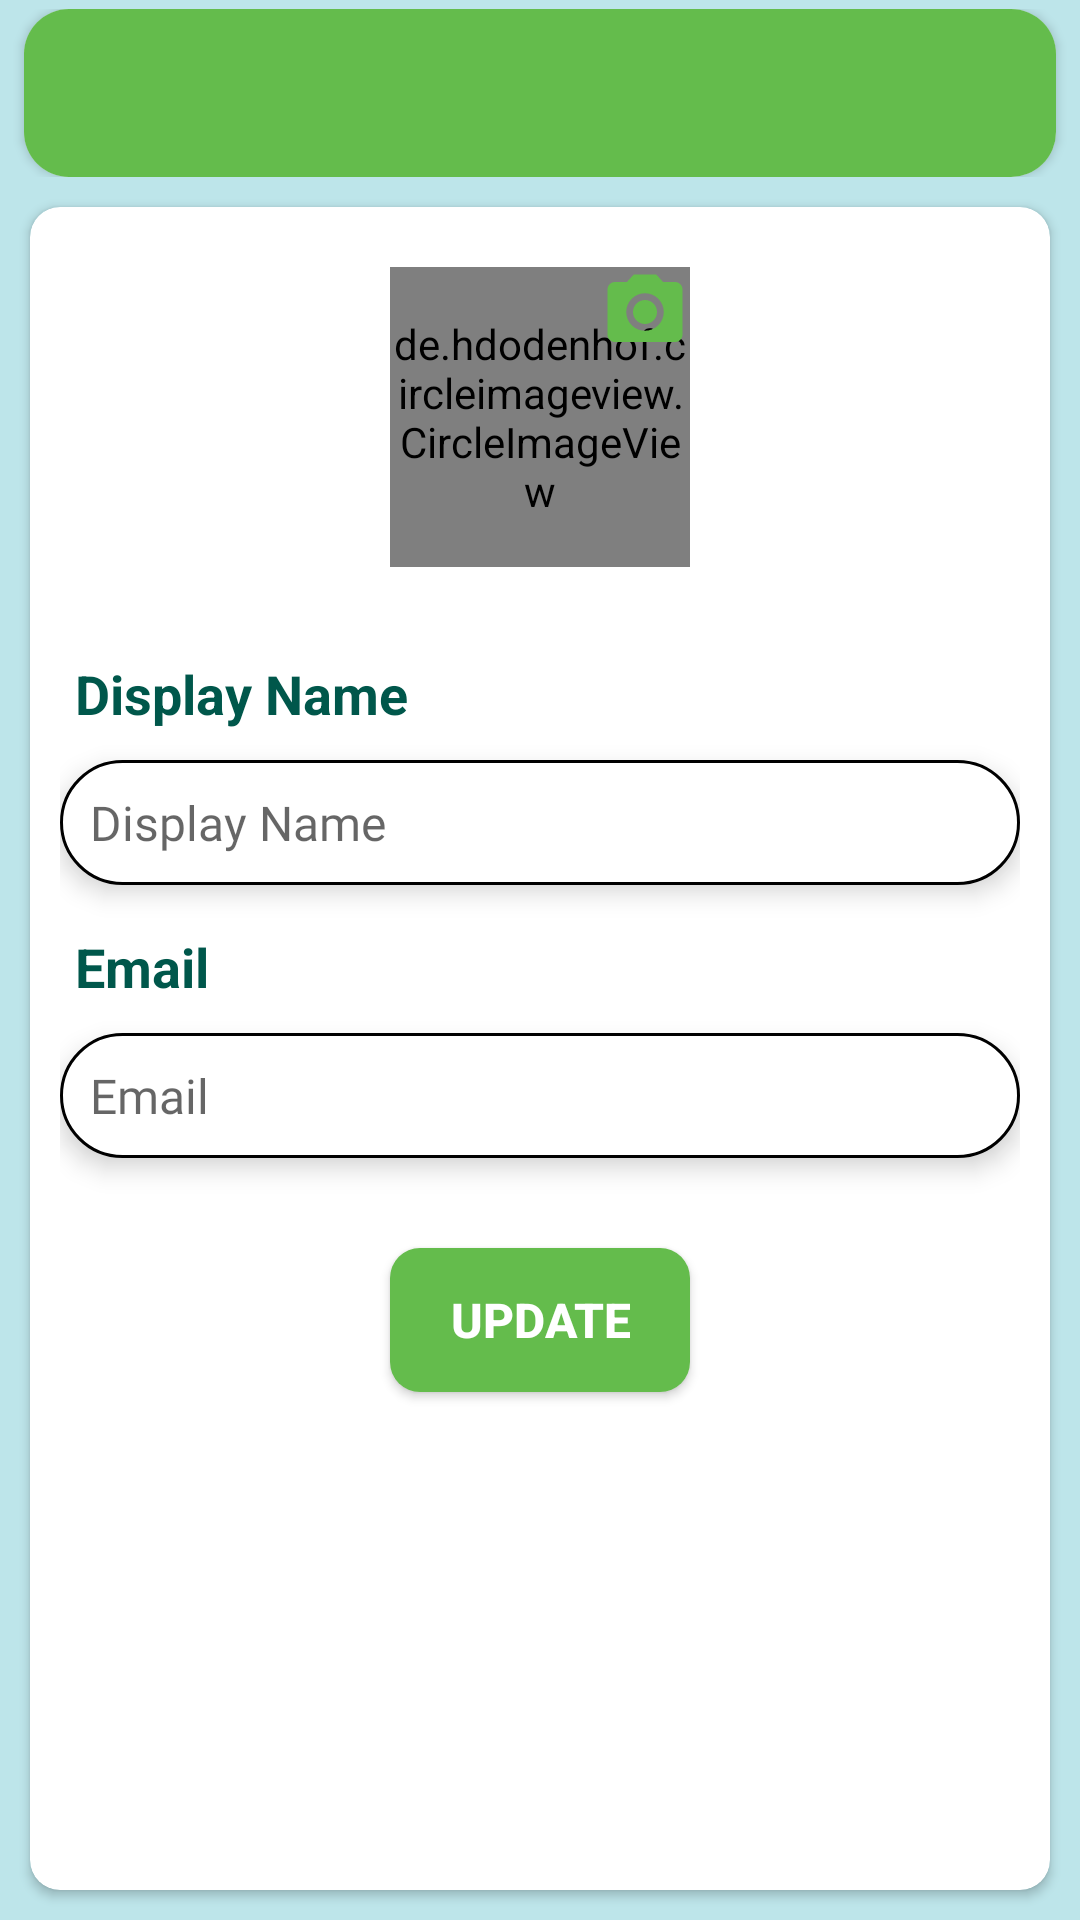

Point at icon controls on the screen. Image size 1080w x 1920h, points as [x,y].
camera: [645,312]
